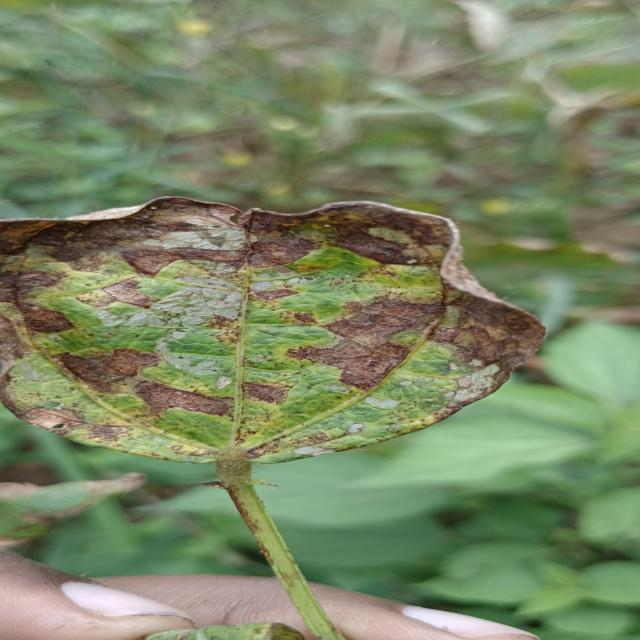Black gram_leaf spot: (0, 180, 556, 475)
